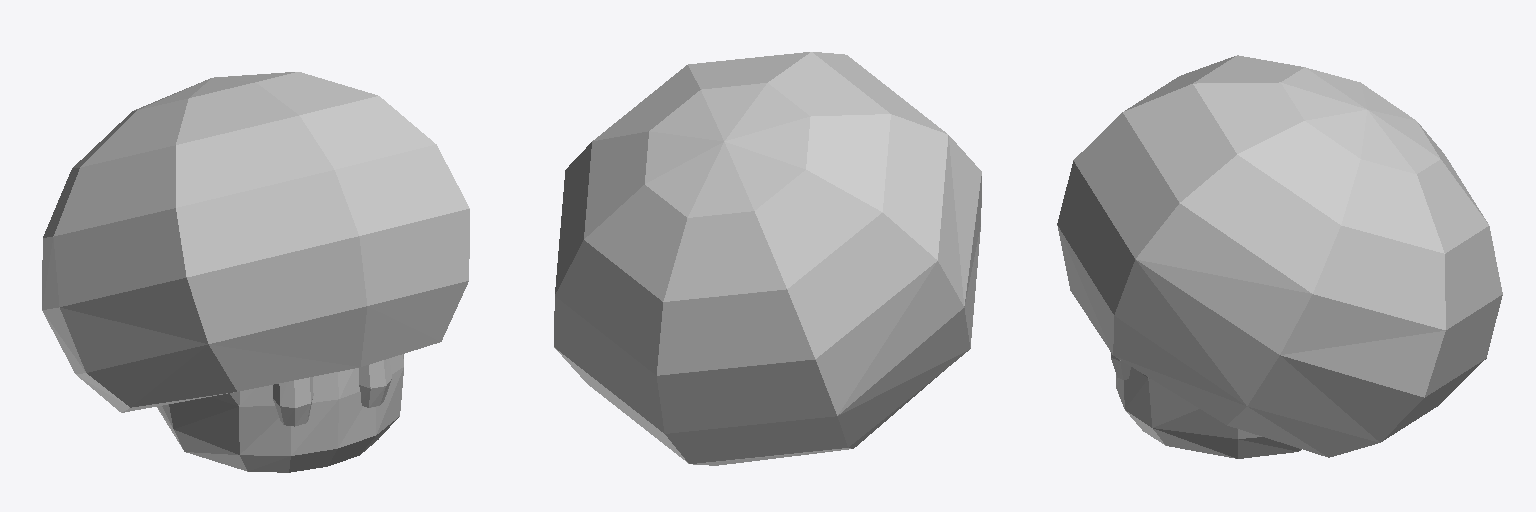
File: 1upmushroom.obj
The picture shows the model from 3 angles: view 1: azimuth 30°, elevation 25°; view 2: azimuth 150°, elevation 25°; view 3: azimuth 270°, elevation 25°; orthographic projection.
Parts seen in each view (by area): view 1: 10; view 2: 10; view 3: 10.
Boxes of the visible parts, x1=… form: 10: x1=42, y1=72, x2=469, y2=472; 10: x1=554, y1=52, x2=981, y2=465; 10: x1=1057, y1=55, x2=1502, y2=458.
Size of the model in its own units: 3.88 by 3.27 by 3.81.